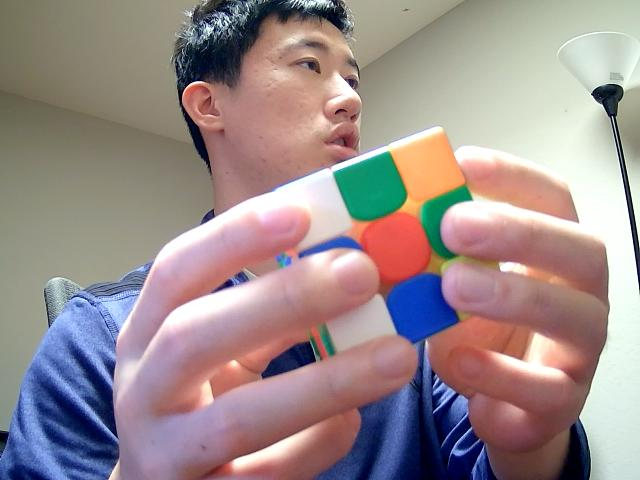Rubiks-Cube: (254, 118, 524, 387)
